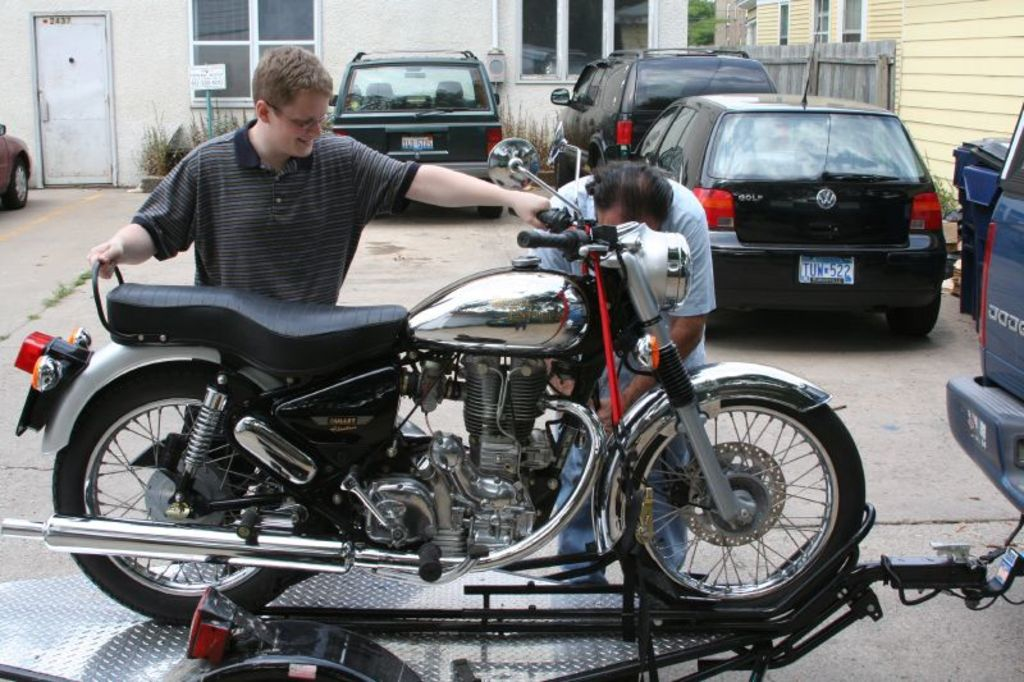Car: (606, 85, 953, 349), (940, 95, 1022, 523), (546, 39, 774, 184), (320, 42, 503, 218), (0, 121, 29, 209)
